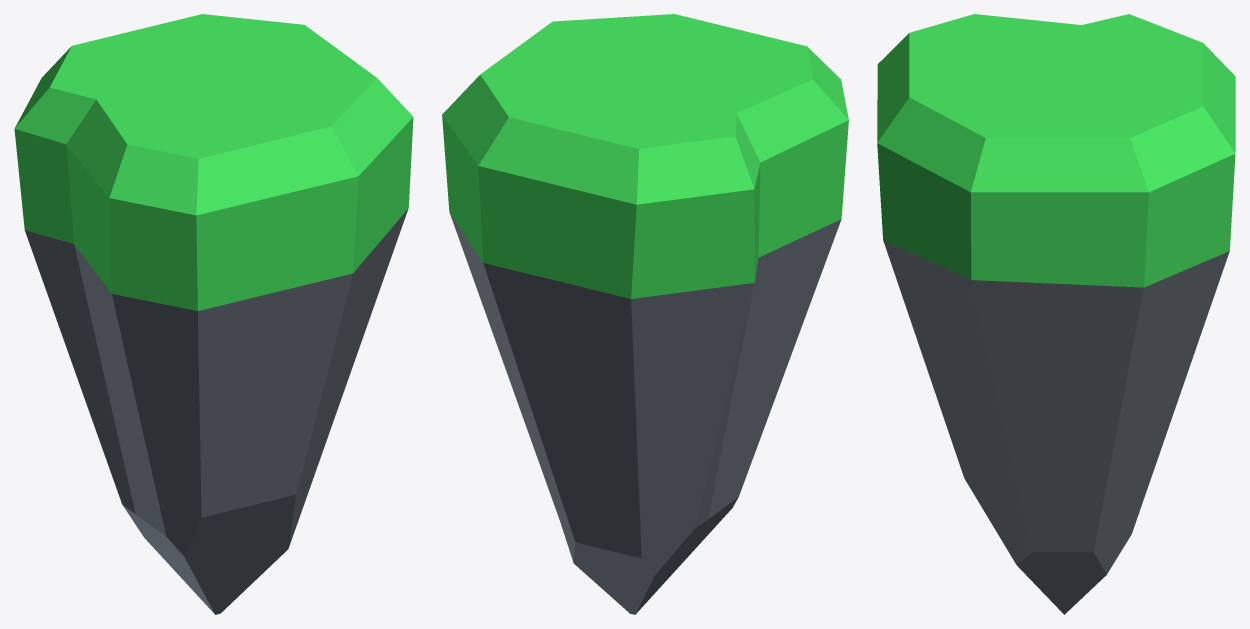
File: testmodelsIsland_007.fbx
The picture shows the model from 3 angles, left to right: view 1: azimuth 30°, elevation 25°; view 2: azimuth 150°, elevation 25°; view 3: azimuth 270°, elevation 25°; orthographic projection.
Parts seen in each view (by area): view 1: Island.007; view 2: Island.007; view 3: Island.007.
Boxes of the visible parts, x1=… form: Island.007: x1=14, y1=14, x2=413, y2=614; Island.007: x1=442, y1=14, x2=848, y2=614; Island.007: x1=877, y1=14, x2=1235, y2=614.
Bounding box in the file's own units: 293 × 482 × 293.
